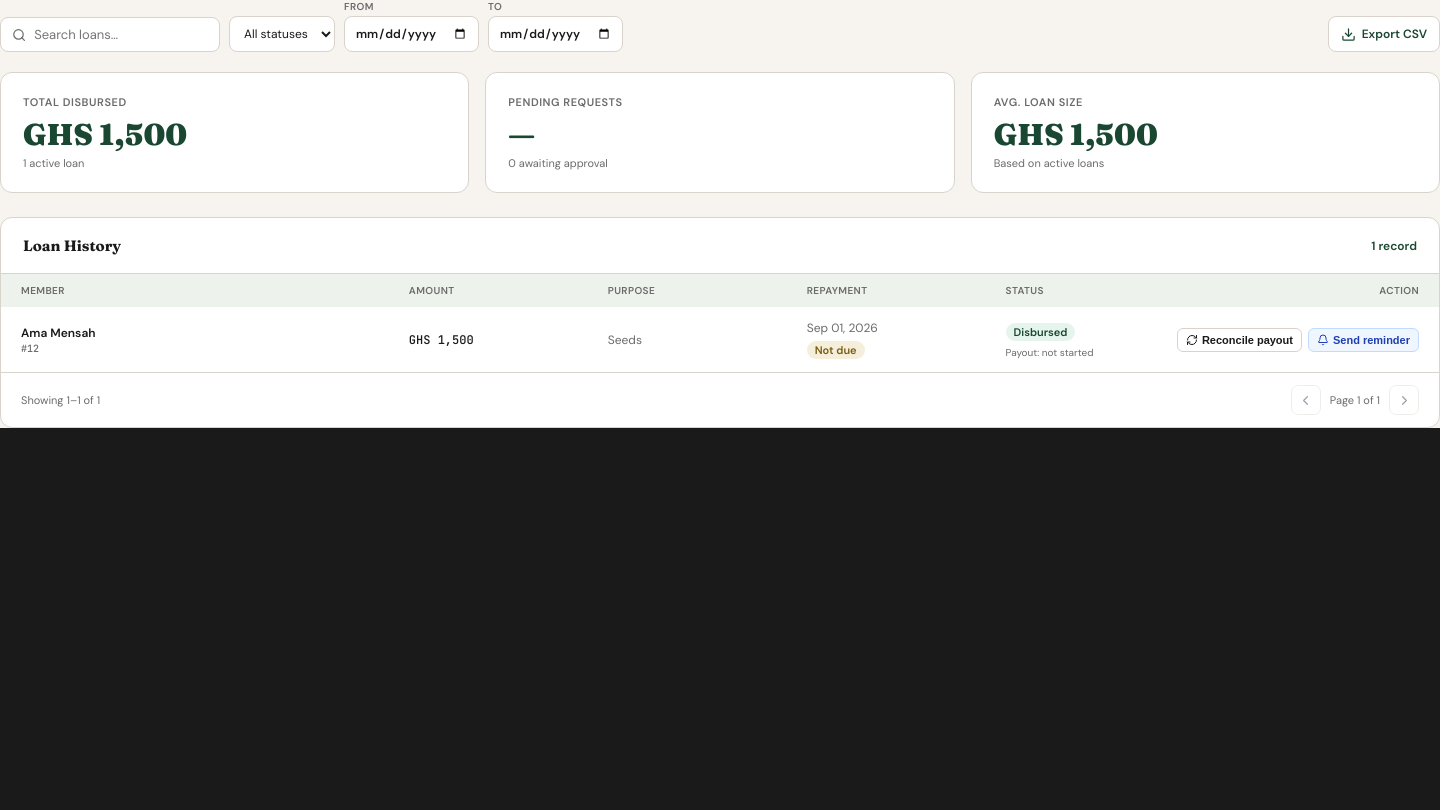
Scenario: Loans operations › keeps loan origination and payment initiation off the dashboard
The image size is (1440, 810).
Step 1. Click the button "Send reminder" → (1364, 340), box top-left (1308, 328), bottom-right (1419, 352)
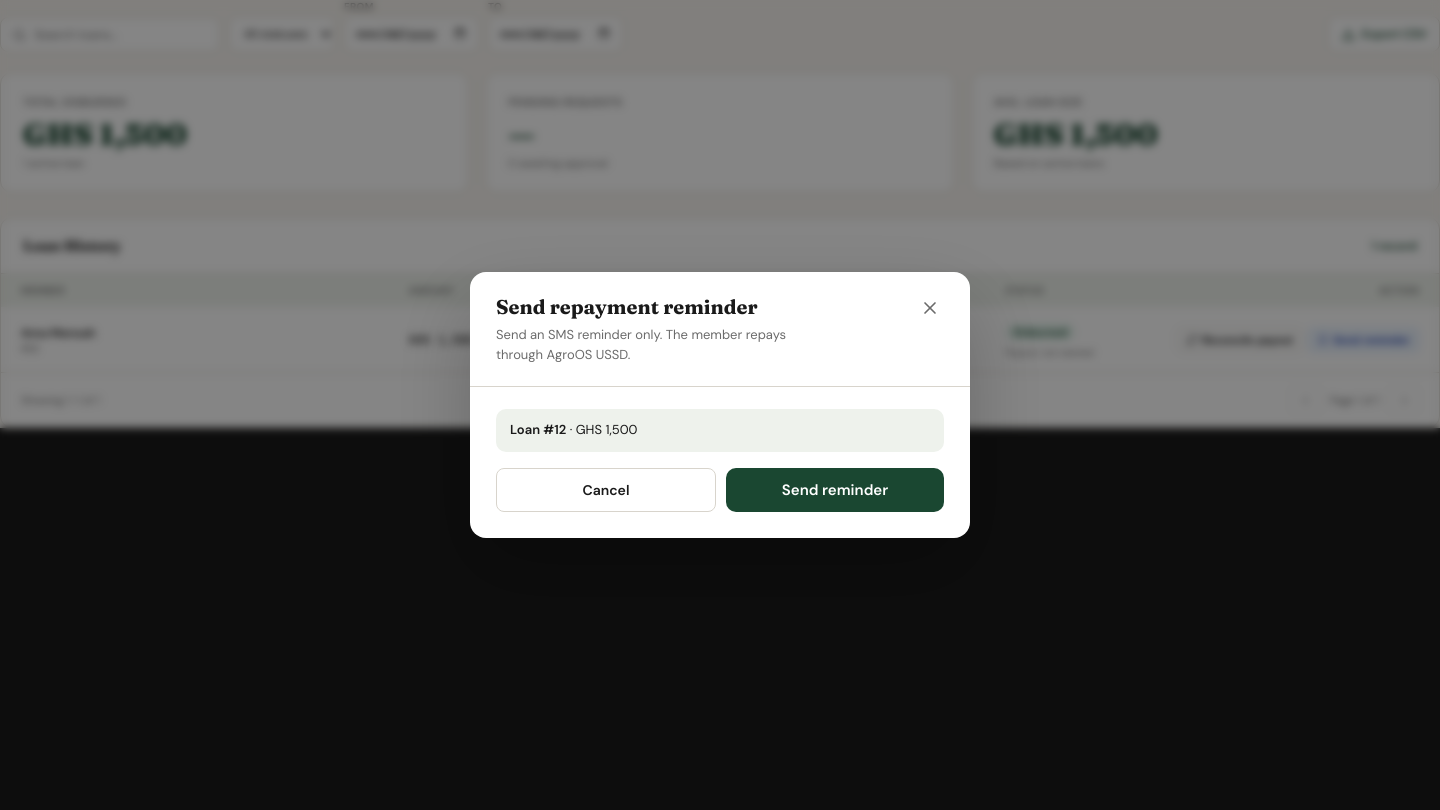
Step 2. Click the submit button → (835, 490), box top-left (726, 468), bottom-right (944, 512)
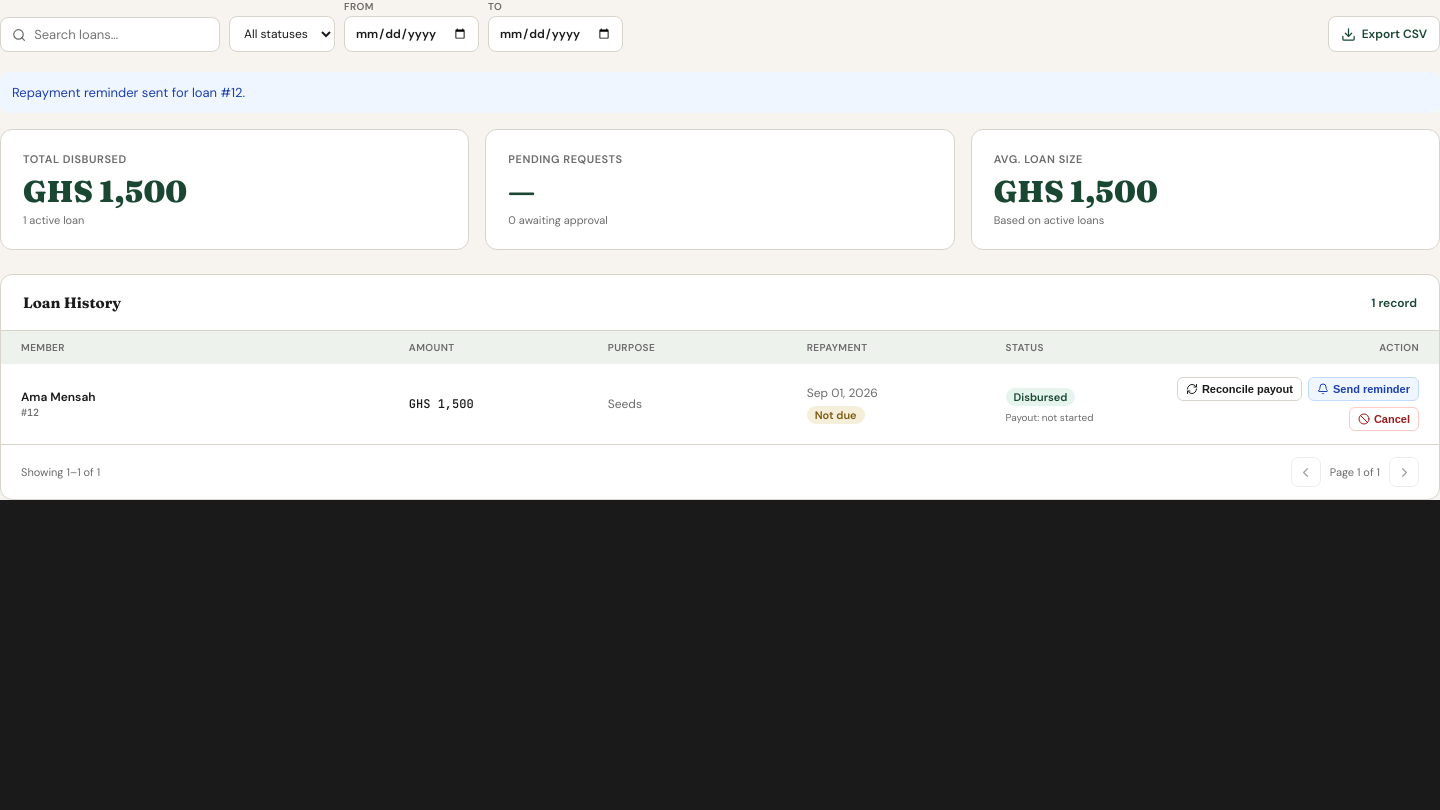
Result: the text "Repayment reminder sent for loan #12." is shown at top-left (0, 72), bottom-right (1439, 113)
